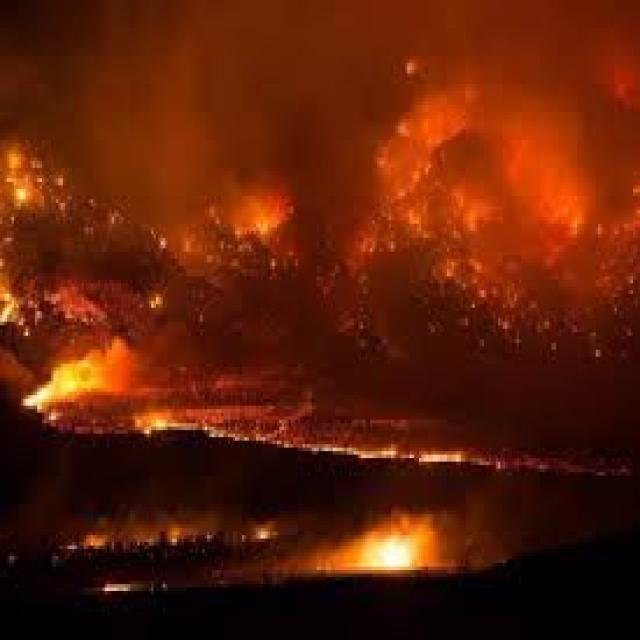Fire: (175, 416, 520, 472), (318, 487, 460, 606), (388, 106, 498, 233), (24, 343, 131, 414), (86, 520, 271, 550), (217, 170, 293, 234), (49, 282, 100, 323)
Smoke: (202, 26, 370, 152), (72, 26, 195, 186), (465, 6, 555, 83), (594, 104, 627, 235)
